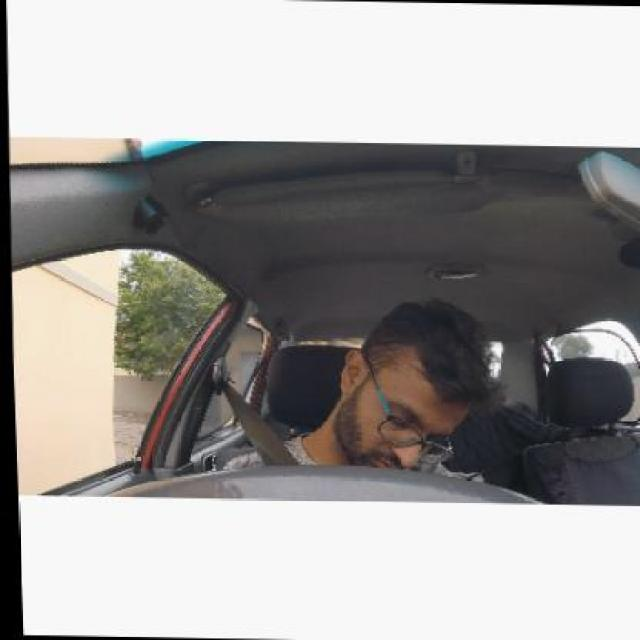drowsy: (329, 290, 491, 470)
